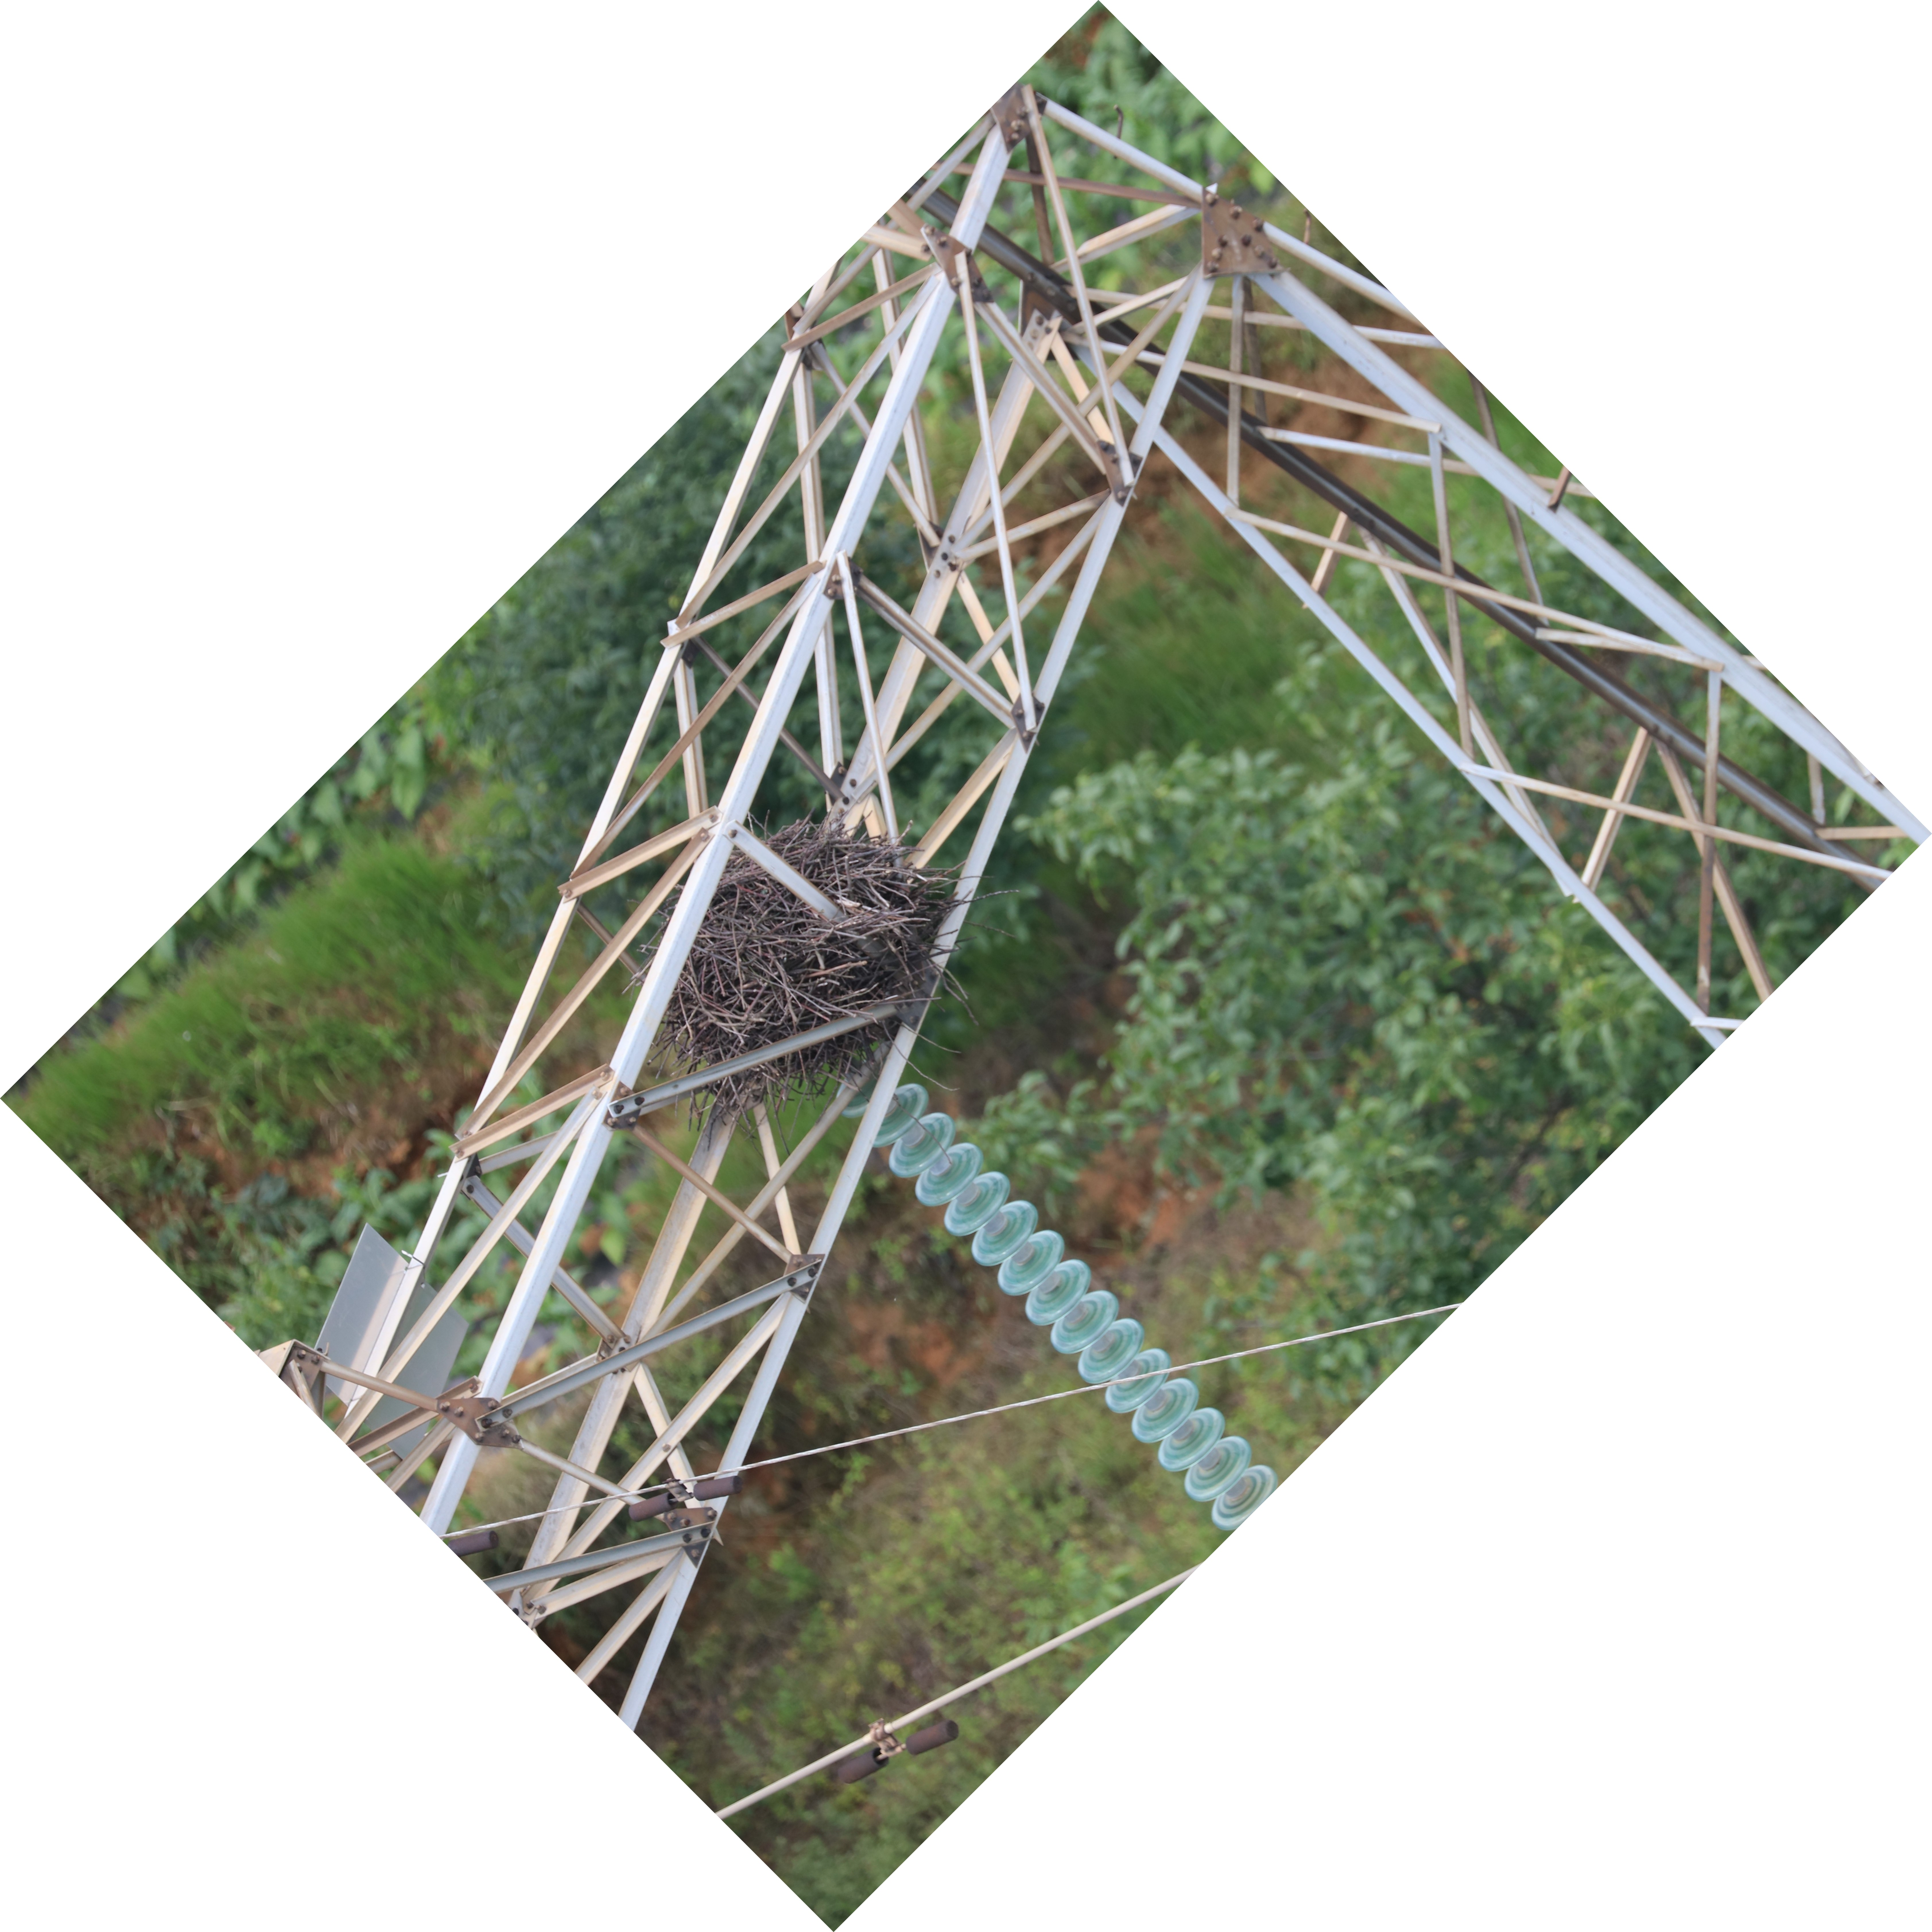niaowo: (621, 801, 970, 1106)
